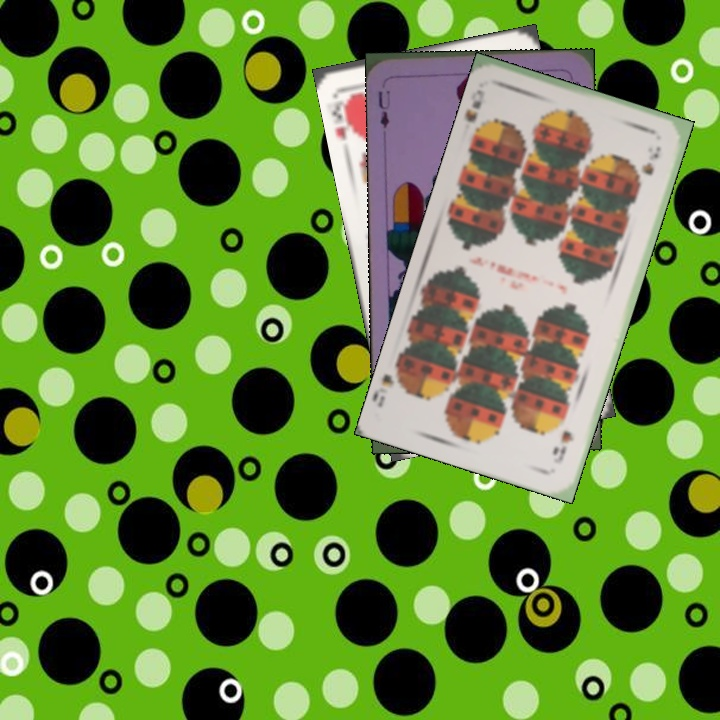EU: (374, 86, 393, 131)
HK: (328, 87, 361, 143)
S9: (467, 85, 490, 140), (549, 426, 577, 466)
